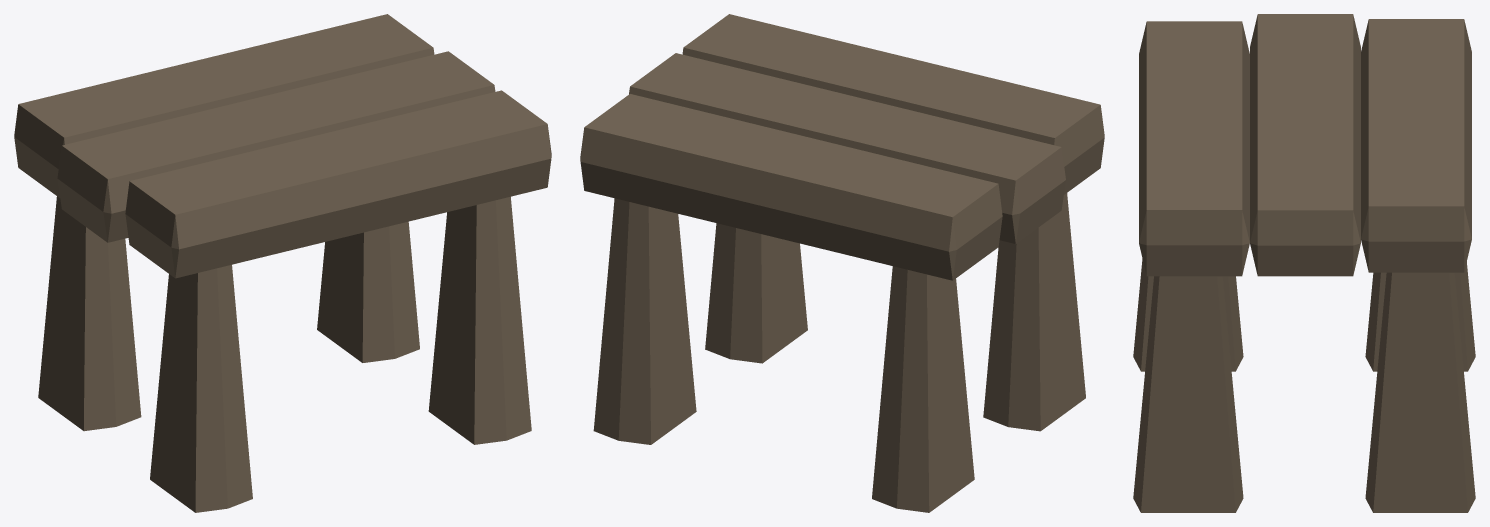
The model's file is Krukje.fbx.
3 views of the same model, side by side, from view 1: azimuth 30°, elevation 25°; view 2: azimuth 150°, elevation 25°; view 3: azimuth 270°, elevation 25° (orthographic). The views are drawn at different scales.
Parts seen in each view (by area): view 1: polySurface3245; view 2: polySurface3245; view 3: polySurface3245.
Boxes of the visible parts, <box> form: polySurface3245: <box>14,14,551,512</box>; polySurface3245: <box>580,14,1104,512</box>; polySurface3245: <box>1133,14,1475,512</box>.
Bounding box in the file's own units: 0.3044 × 0.2229 × 0.2195.
